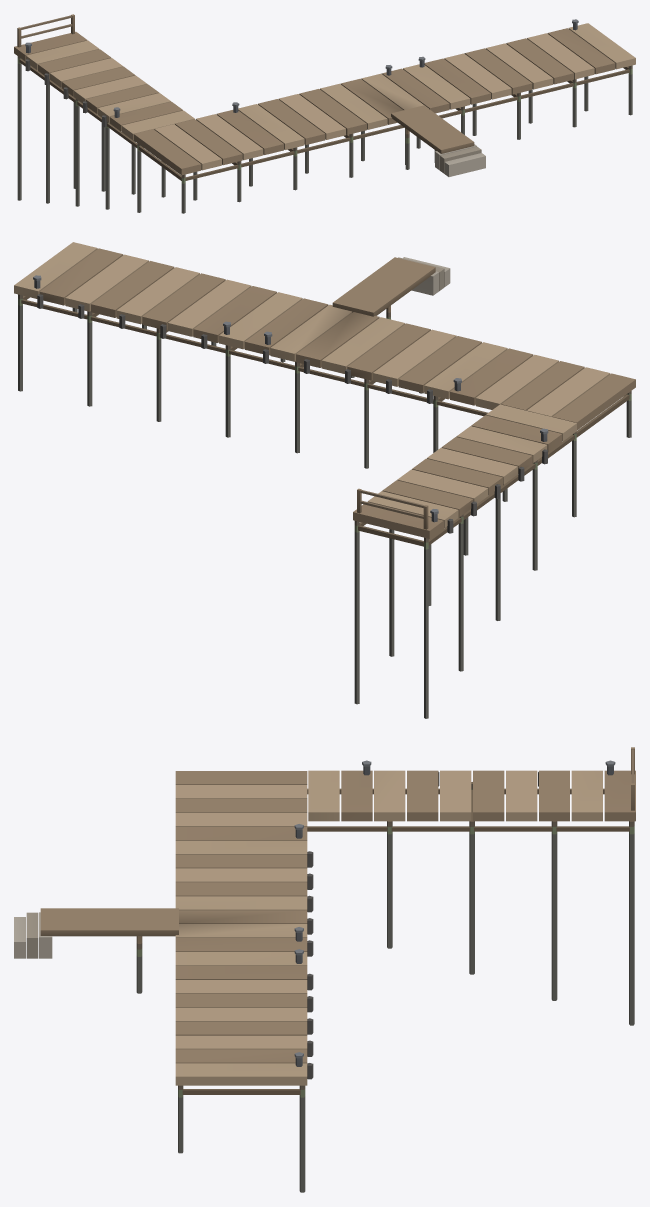
File: dock_boat_wide_low.glb
3 renders of one model, top to bottom at view 1: azimuth 30°, elevation 25°; view 2: azimuth 150°, elevation 25°; view 3: azimuth 270°, elevation 25°, orthographic. The views are drawn at different scales.
Visible parts, largest first — view 1: dock_boat_wide; view 2: dock_boat_wide; view 3: dock_boat_wide.
Boxes of the visible parts, left/top/right/bottom form: dock_boat_wide: left=14, top=14, right=635, bottom=213; dock_boat_wide: left=14, top=242, right=635, bottom=718; dock_boat_wide: left=14, top=747, right=635, bottom=1192.
Size of the model in its own units: 22.16 by 8 by 18.88.
